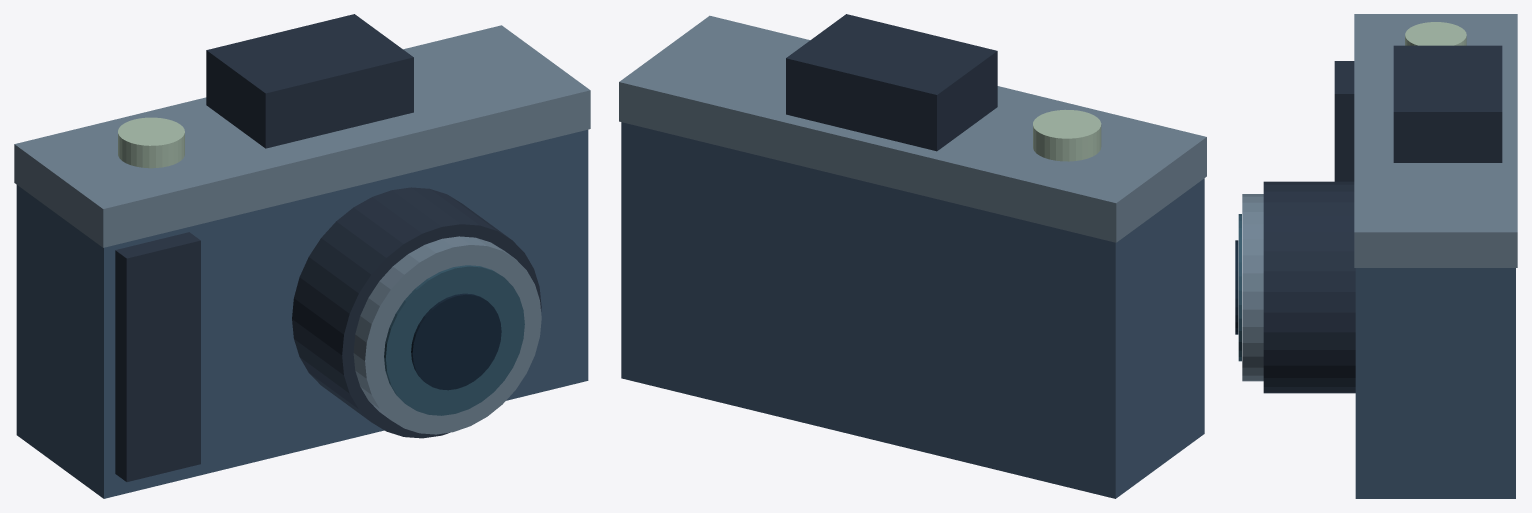
File: camera.glb
The picture shows the model from 3 angles, left to right: view 1: azimuth 30°, elevation 25°; view 2: azimuth 150°, elevation 25°; view 3: azimuth 270°, elevation 25°; orthographic projection. The views are drawn at different scales.
Parts seen in each view (by area): view 1: body, silver top, viewfinder, grip, lens barrel, lens ring, lens face, inner glass, shutter; view 2: body, silver top, viewfinder, shutter; view 3: body, silver top, lens barrel, viewfinder, lens ring, grip, shutter, lens face, inner glass.
Boxes of the visible parts, x1,y1,x2,y2 form: body: [16, 129, 588, 498]; silver top: [14, 25, 590, 247]; viewfinder: [206, 14, 413, 148]; grip: [115, 232, 200, 481]; lens barrel: [292, 187, 541, 438]; lens ring: [353, 236, 541, 434]; lens face: [384, 265, 524, 415]; inner glass: [411, 293, 501, 390]; shutter: [118, 117, 184, 168]; body: [621, 122, 1204, 498]; silver top: [619, 15, 1206, 242]; viewfinder: [786, 14, 997, 151]; shutter: [1033, 109, 1101, 161]; body: [1355, 268, 1515, 498]; silver top: [1354, 14, 1517, 267]; lens barrel: [1263, 181, 1355, 393]; viewfinder: [1393, 45, 1502, 162]; lens ring: [1242, 194, 1263, 381]; grip: [1334, 61, 1354, 181]; shutter: [1405, 22, 1466, 45]; lens face: [1238, 214, 1241, 361]; inner glass: [1235, 240, 1238, 334].
Bounding box in the file's own units: 1.71 × 1.16 × 0.933.
